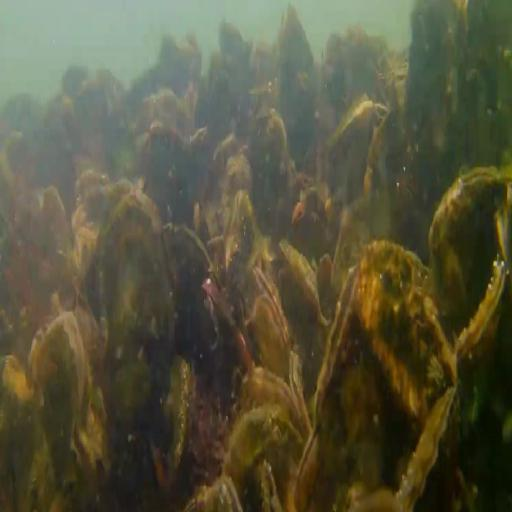Oyster-Closed: (356, 246, 459, 418), (432, 166, 511, 325), (400, 390, 459, 512), (147, 342, 191, 485), (454, 261, 505, 384), (164, 225, 216, 337), (276, 235, 328, 333), (224, 423, 296, 486), (279, 10, 317, 104), (228, 194, 256, 294)
Oyster-Open: (98, 194, 173, 432), (32, 317, 88, 457), (320, 261, 361, 433), (235, 370, 307, 430), (334, 100, 389, 165), (254, 292, 291, 384), (294, 424, 327, 512), (189, 471, 242, 512), (247, 461, 284, 512), (252, 269, 282, 320)
